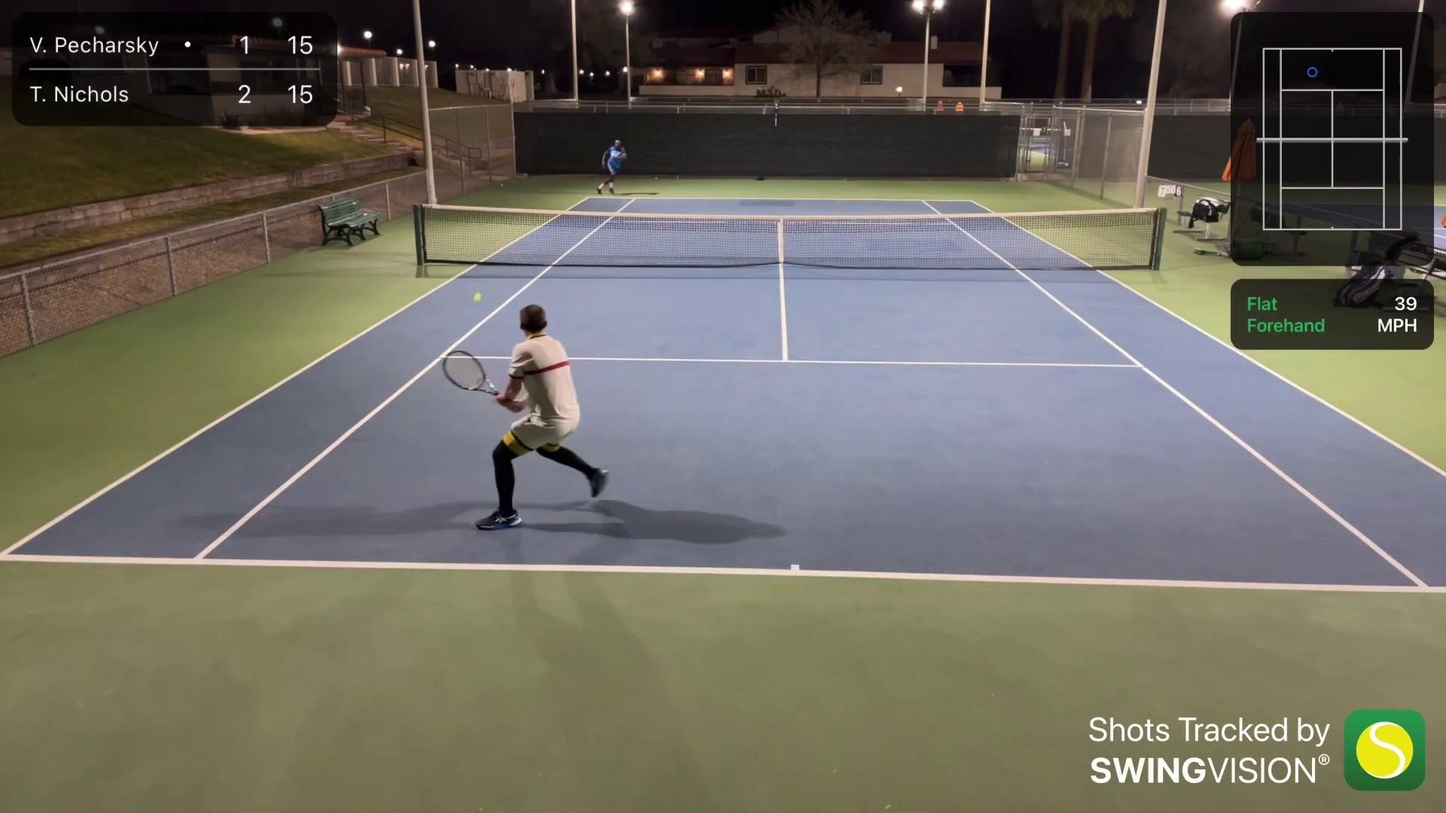ball: (468, 291, 485, 303)
